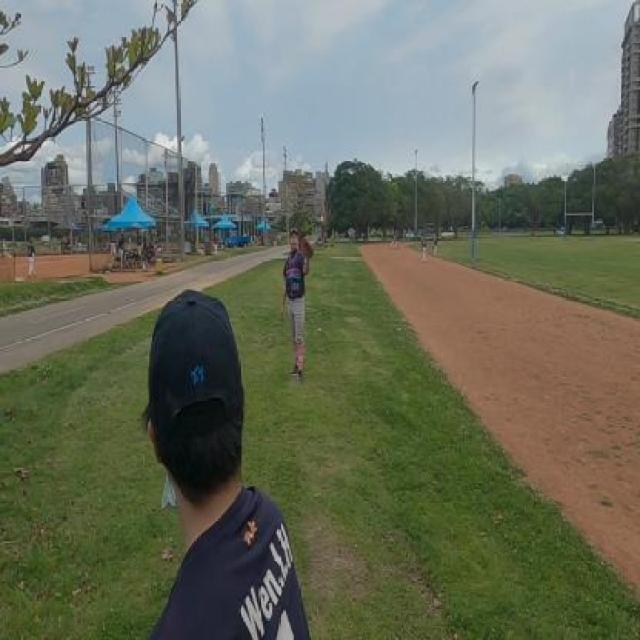baseball: (319, 214, 323, 226)
